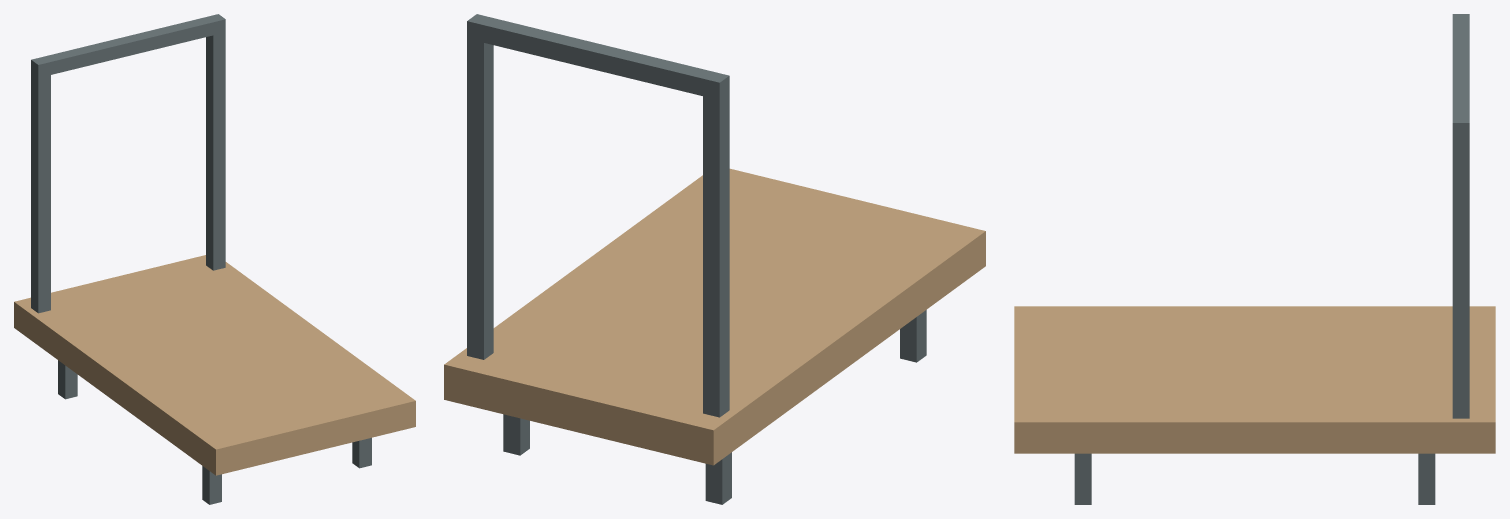
The model's file is supermarket-operations-flatbed-cart-7621fff6__26813.glb.
The picture shows the model from 3 angles, left to right: view 1: azimuth 30°, elevation 25°; view 2: azimuth 150°, elevation 25°; view 3: azimuth 270°, elevation 25°; orthographic projection. The views are drawn at different scales.
Visible parts, largest first — view 1: flatbed-cart; view 2: flatbed-cart; view 3: flatbed-cart.
Part boxes in pixels (x1=…): flatbed-cart: x1=14, y1=14, x2=415, y2=504; flatbed-cart: x1=444, y1=14, x2=985, y2=504; flatbed-cart: x1=1014, y1=14, x2=1495, y2=504.
Bounding box in the file's own units: 0.8001 × 1.25 × 1.4.
